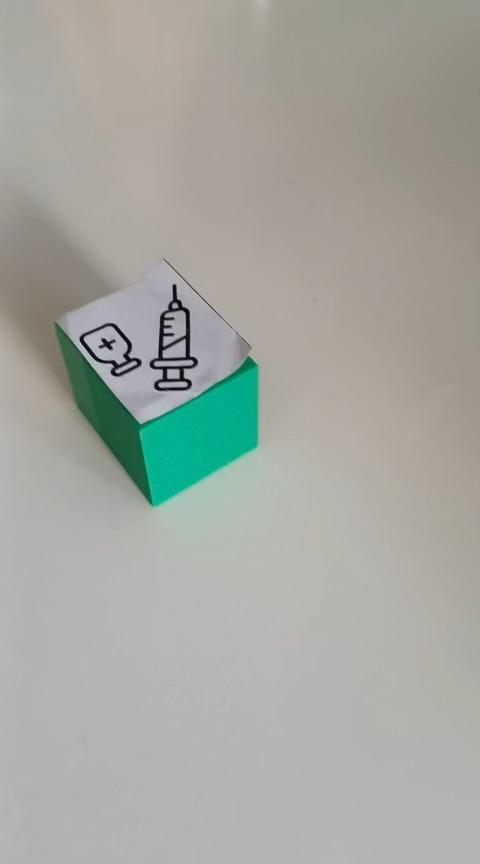antiseptic cream: (52, 256, 260, 507)
